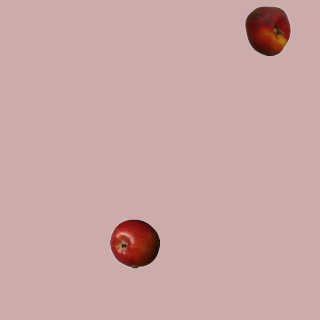Apple Braeburn: (109, 218, 159, 268)
Nectarine Flat: (242, 5, 292, 55)
